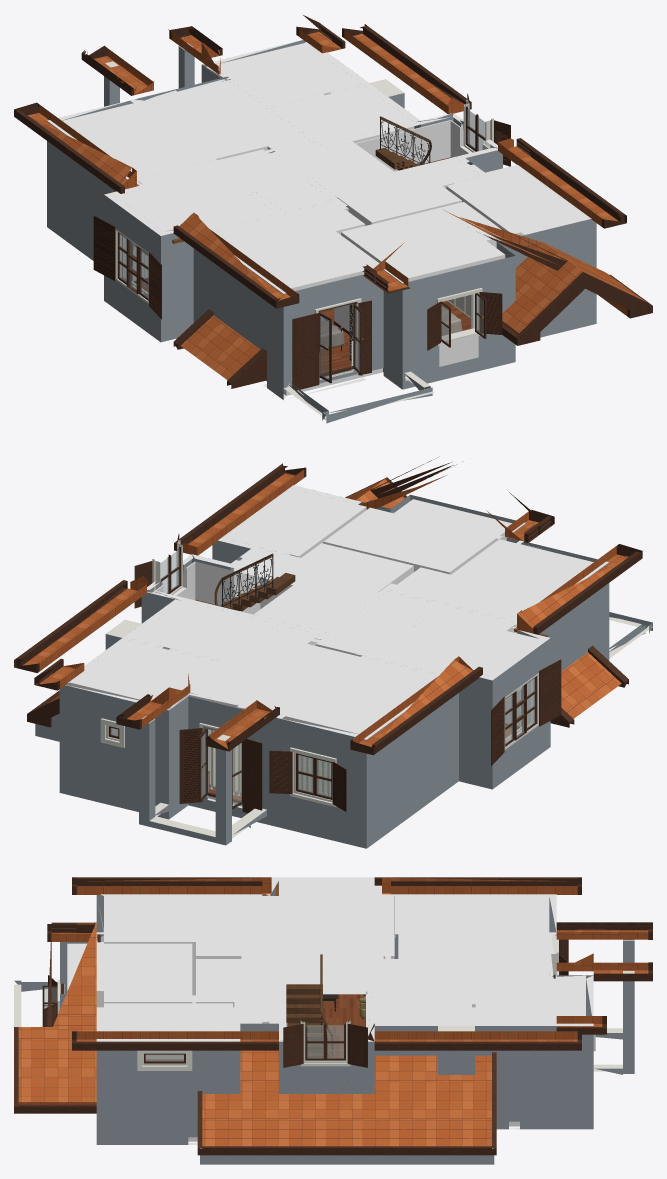
Rendered from level-2.glb.
3 views of the same model, one above another, from view 1: azimuth 30°, elevation 25°; view 2: azimuth 150°, elevation 25°; view 3: azimuth 270°, elevation 25° (orthographic). The views are drawn at different scales.
Parts seen in each view (by area): view 1: F2 | KAT 2$TAVAN, F2 | KAT 2$DUVAR, F2 | ÇATII, F2 | ÇATI ALIN, F2 | PENCERE_KAPI$SHUTTER, F2 | KAT 2$DUVAR KAPLAMA, F2 | ek dalgalar, F2 | PENCERE_KAPI$CAM, F2 | PENCERE_KAPI$ÇEPHE ÇERÇECE, F2 | PENCERE_KAPI$SHUTTER AİM, F2 | KAT 2$ZEMİN KAPLAMA, 107 | Restored window parapet (+3 smaller); view 2: F2 | KAT 2$TAVAN, F2 | KAT 2$DUVAR, F2 | ÇATII, F2 | ÇATI ALIN, F2 | PENCERE_KAPI$SHUTTER, F2 | ek dalgalar, F2 | KAT 2$DUVAR KAPLAMA, F2 | PENCERE_KAPI$CAM, F2 | PENCERE_KAPI$ÇEPHE ÇERÇECE, F2 | PENCERE_KAPI$ÇERÇEVE, F2 | PENCERE_KAPI$SHUTTER AİM, F2 | PENCERE_KAPI$CEPHE FRAME (+4 smaller); view 3: F2 | KAT 2$TAVAN, F2 | ÇATII, F2 | KAT 2$DUVAR, F2 | ÇATI ALIN, F2 | ek dalgalar, F2 | PENCERE_KAPI$SHUTTER, F2 | KAT 2$MERDİVEN, F2 | KAT 2$ZEMİN KAPLAMA, F2 | PENCERE_KAPI$CAM, F2 | PENCERE_KAPI$CEPHE FRAME, F2 | PENCERE_KAPI$ÇEPHE ÇERÇECE, F2 | PENCERE_KAPI$ÇERÇEVE (+1 smaller).
Part boxes in pixels (x1=…): F2 | KAT 2$TAVAN: x1=62, y1=43, x2=585, y2=290; F2 | KAT 2$DUVAR: x1=47, y1=40, x2=596, y2=399; F2 | ÇATII: x1=28, y1=29, x2=645, y2=379; F2 | ÇATI ALIN: x1=14, y1=15, x2=652, y2=388; F2 | PENCERE_KAPI$SHUTTER: x1=93, y1=93, x2=510, y2=390; F2 | KAT 2$DUVAR KAPLAMA: x1=123, y1=71, x2=523, y2=383; F2 | ek dalgalar: x1=104, y1=43, x2=433, y2=423; F2 | PENCERE_KAPI$CAM: x1=119, y1=109, x2=485, y2=297; F2 | PENCERE_KAPI$ÇEPHE ÇERÇECE: x1=115, y1=104, x2=490, y2=330; F2 | PENCERE_KAPI$SHUTTER AİM: x1=94, y1=130, x2=507, y2=387; F2 | KAT 2$ZEMİN KAPLAMA: x1=142, y1=282, x2=470, y2=373; 107 | Restored window parapet: x1=439, y1=333, x2=478, y2=366; F2 | KAT 2$TAVAN: x1=70, y1=488, x2=593, y2=734; F2 | KAT 2$DUVAR: x1=35, y1=485, x2=609, y2=848; F2 | ÇATII: x1=22, y1=469, x2=627, y2=748; F2 | ÇATI ALIN: x1=14, y1=456, x2=642, y2=755; F2 | PENCERE_KAPI$SHUTTER: x1=134, y1=534, x2=561, y2=813; F2 | ek dalgalar: x1=106, y1=612, x2=652, y2=845; F2 | KAT 2$DUVAR KAPLAMA: x1=70, y1=510, x2=530, y2=770; F2 | PENCERE_KAPI$CAM: x1=111, y1=550, x2=534, y2=797; F2 | PENCERE_KAPI$ÇEPHE ÇERÇECE: x1=106, y1=544, x2=538, y2=802; F2 | PENCERE_KAPI$ÇERÇEVE: x1=108, y1=547, x2=536, y2=799; F2 | PENCERE_KAPI$SHUTTER AİM: x1=183, y1=668, x2=559, y2=805; F2 | PENCERE_KAPI$CEPHE FRAME: x1=100, y1=539, x2=336, y2=806; F2 | KAT 2$TAVAN: x1=67, y1=880, x2=585, y2=1031; F2 | ÇATII: x1=18, y1=877, x2=648, y2=1146; F2 | KAT 2$DUVAR: x1=60, y1=877, x2=593, y2=1164; F2 | ÇATI ALIN: x1=14, y1=877, x2=652, y2=1155; F2 | ek dalgalar: x1=14, y1=939, x2=634, y2=1074; F2 | PENCERE_KAPI$SHUTTER: x1=43, y1=922, x2=568, y2=1067; F2 | KAT 2$MERDİVEN: x1=286, y1=984, x2=348, y2=1082; F2 | KAT 2$ZEMİN KAPLAMA: x1=323, y1=994, x2=365, y2=1057; F2 | PENCERE_KAPI$CAM: x1=145, y1=1025, x2=343, y2=1061; F2 | PENCERE_KAPI$CEPHE FRAME: x1=57, y1=939, x2=595, y2=1070; F2 | PENCERE_KAPI$ÇEPHE ÇERÇECE: x1=60, y1=935, x2=556, y2=1065; F2 | PENCERE_KAPI$ÇERÇEVE: x1=144, y1=1023, x2=345, y2=1063.
Size of the model in its own units: 12.19 by 5.64 by 17.37.
Materials: 84 (23 with a texture image).
